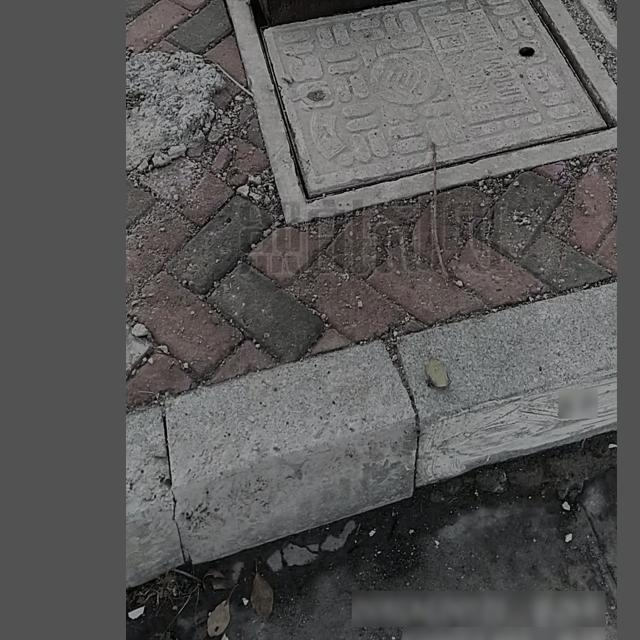uncovered: (225, 0, 550, 210)
